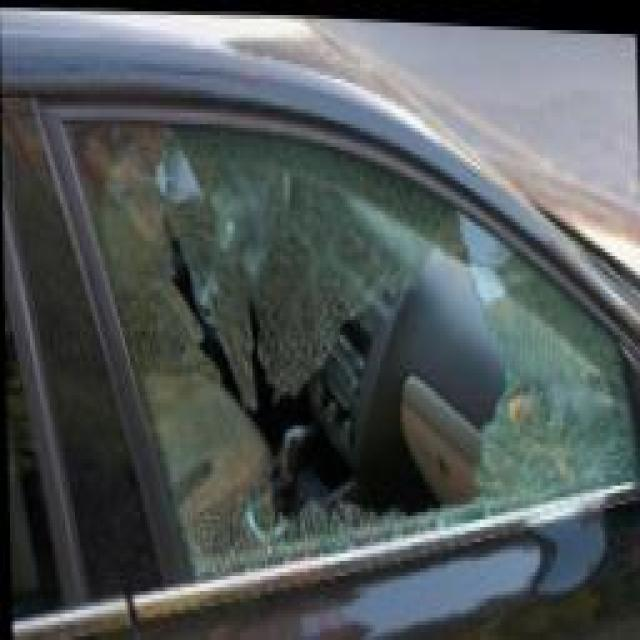Door: (42, 90, 639, 638)
